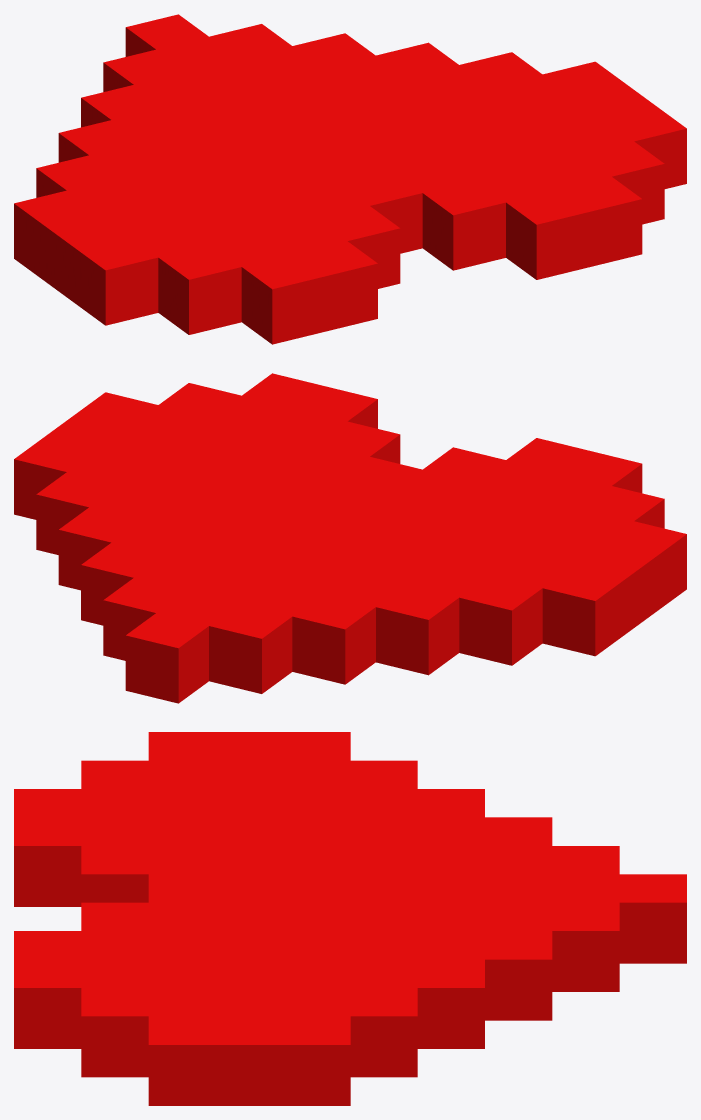
The model's file is heart.dae.
The picture shows the model from 3 angles, top to bottom: view 1: azimuth 30°, elevation 25°; view 2: azimuth 150°, elevation 25°; view 3: azimuth 270°, elevation 25°; orthographic projection. The views are drawn at different scales.
Visible parts, largest first — view 1: heart; view 2: heart; view 3: heart.
Part boxes in pixels (box(x1,y1,x2,y2)): heart: box(14, 14, 686, 344); heart: box(14, 373, 686, 703); heart: box(14, 732, 686, 1105).
Size of the model in its own units: 1.1 by 0.1 by 1.
1 material, 1 textured.
